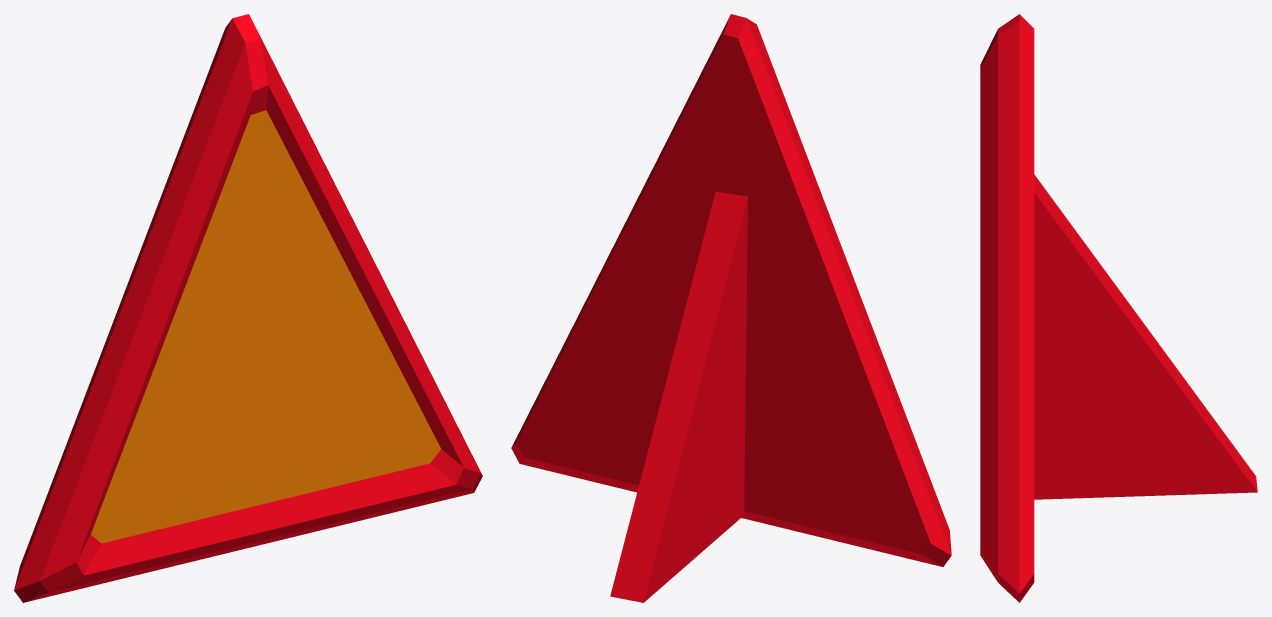
Rendered from SM_Fire_Sing.fbx.
The picture shows the model from 3 angles, left to right: view 1: azimuth 30°, elevation 25°; view 2: azimuth 150°, elevation 25°; view 3: azimuth 270°, elevation 25°; orthographic projection. The views are drawn at different scales.
Visible parts, largest first — view 1: SM_Fire_Sing; view 2: SM_Fire_Sing; view 3: SM_Fire_Sing.
Boxes of the visible parts, <box> form: SM_Fire_Sing: <box>14,14,482,602</box>; SM_Fire_Sing: <box>511,14,951,602</box>; SM_Fire_Sing: <box>980,14,1257,602</box>.
Bounding box in the file's own units: 67.64 × 73.58 × 38.36.
